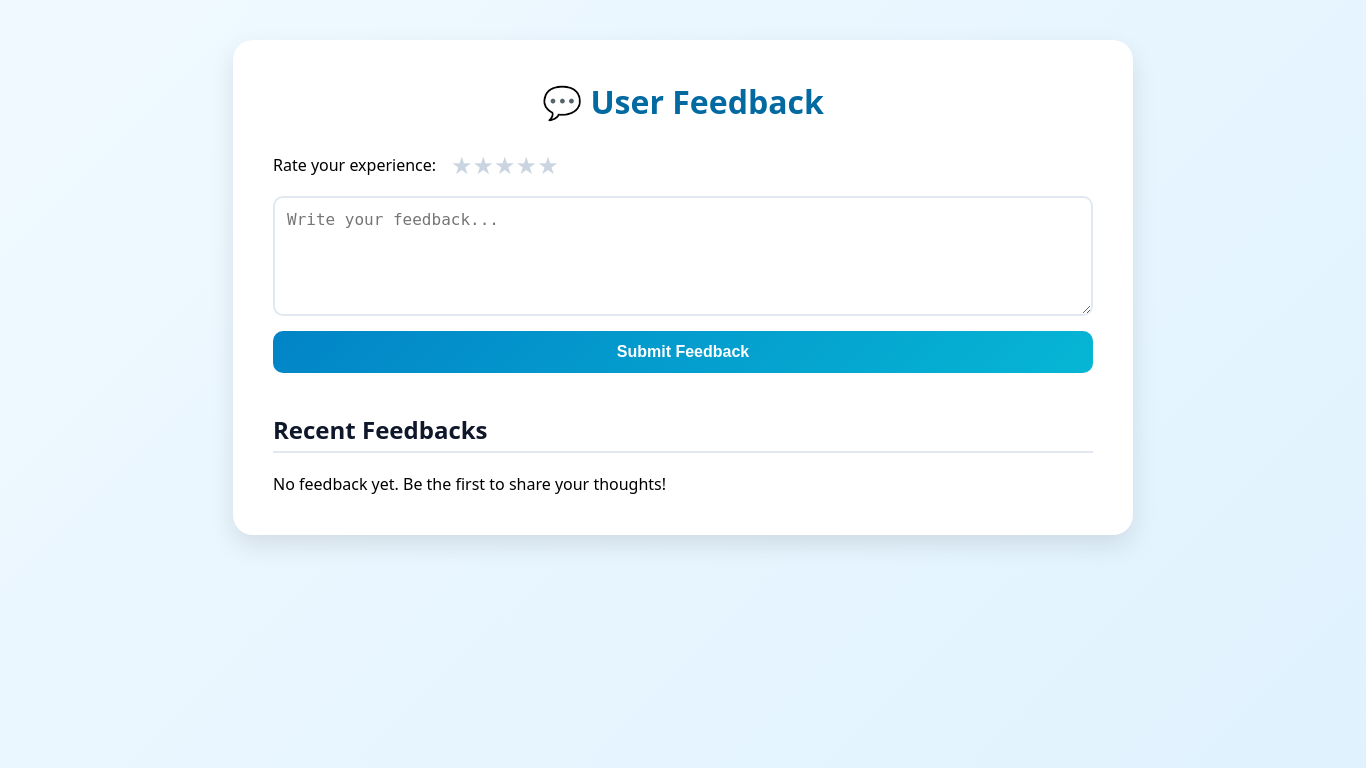
Test case: Feedback › the form › shows the new entry without a refetch
Click the button named "rate 5 out of 5": x=548, y=164 [537,148,559,181]
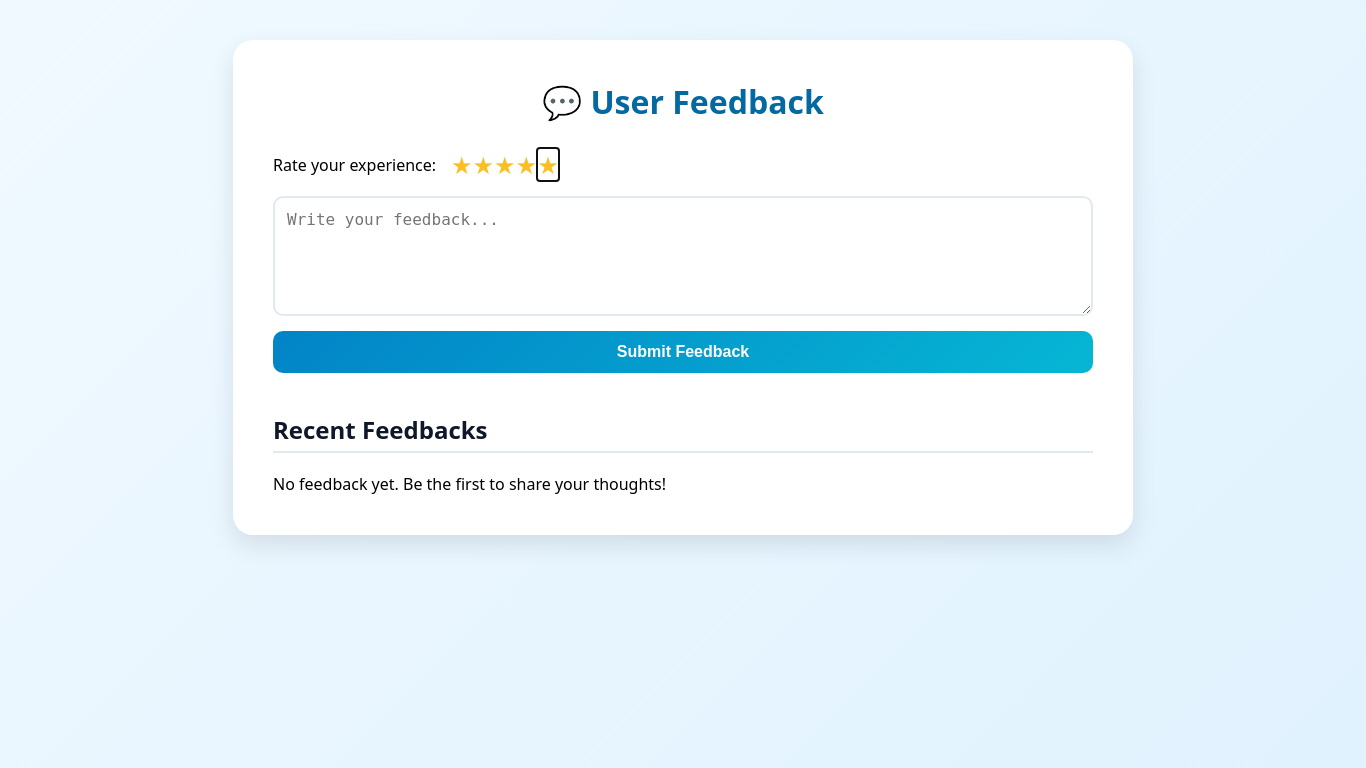
In the text box with placeholder "Write your feedback...": x=683, y=256 [273,196,1093,316], type "Just submitted."
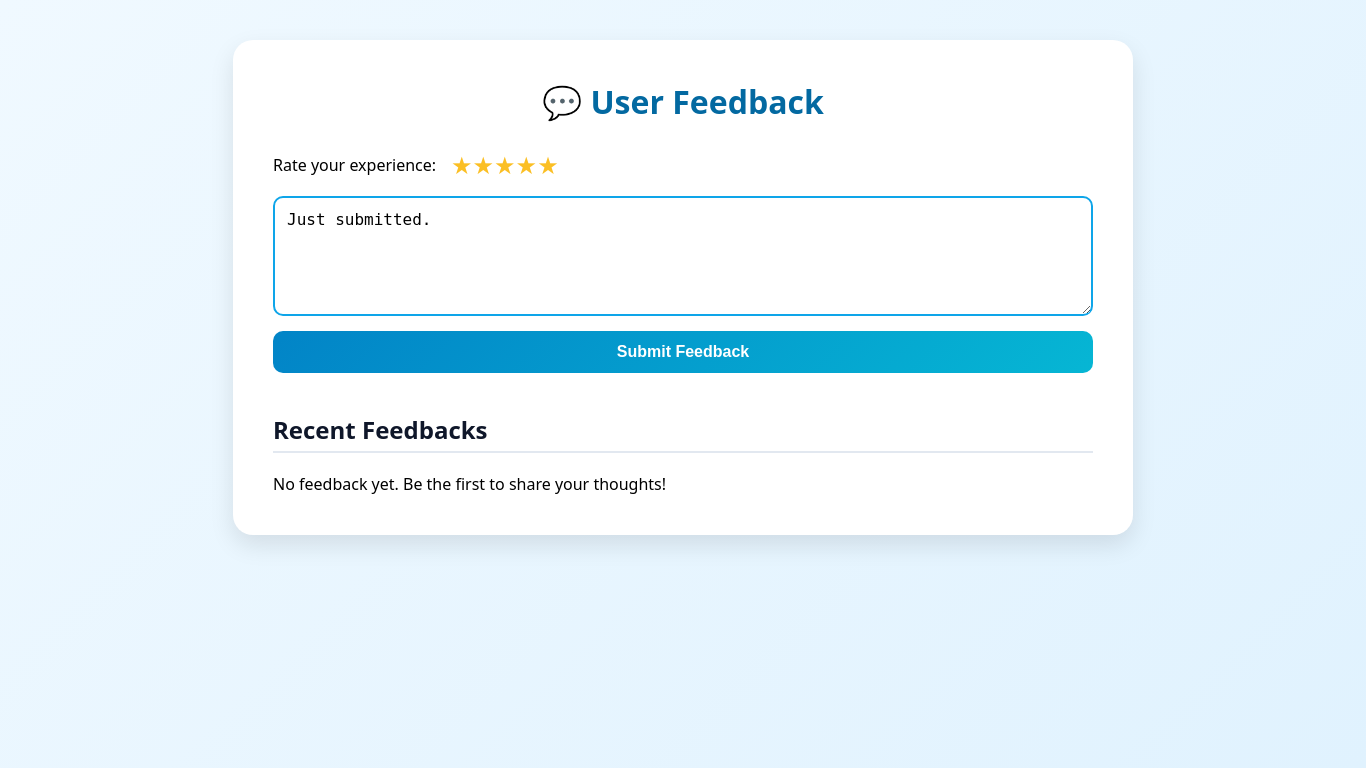
Click the button "Submit Feedback": x=683, y=352 [273,331,1093,373]
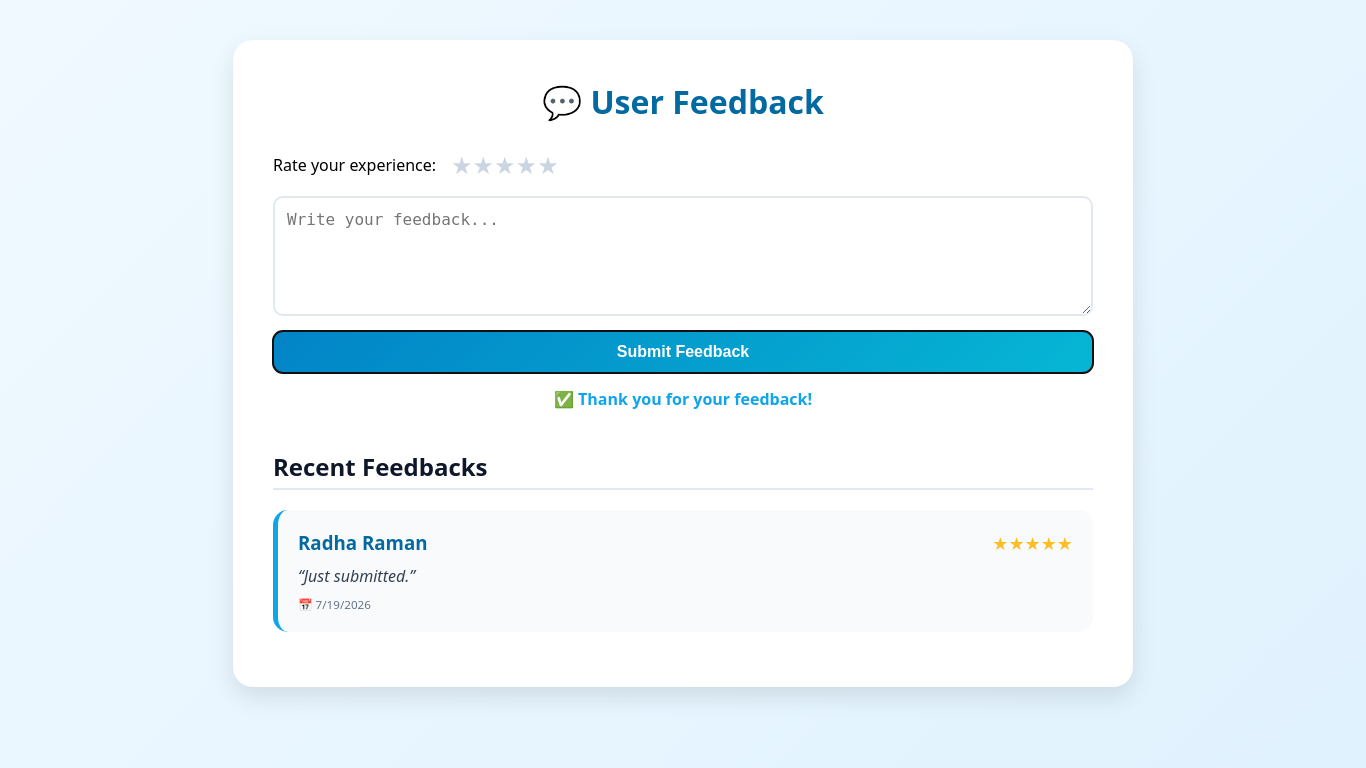
Expected: the text "“Just submitted.”" is shown, [298,565,415,587]
